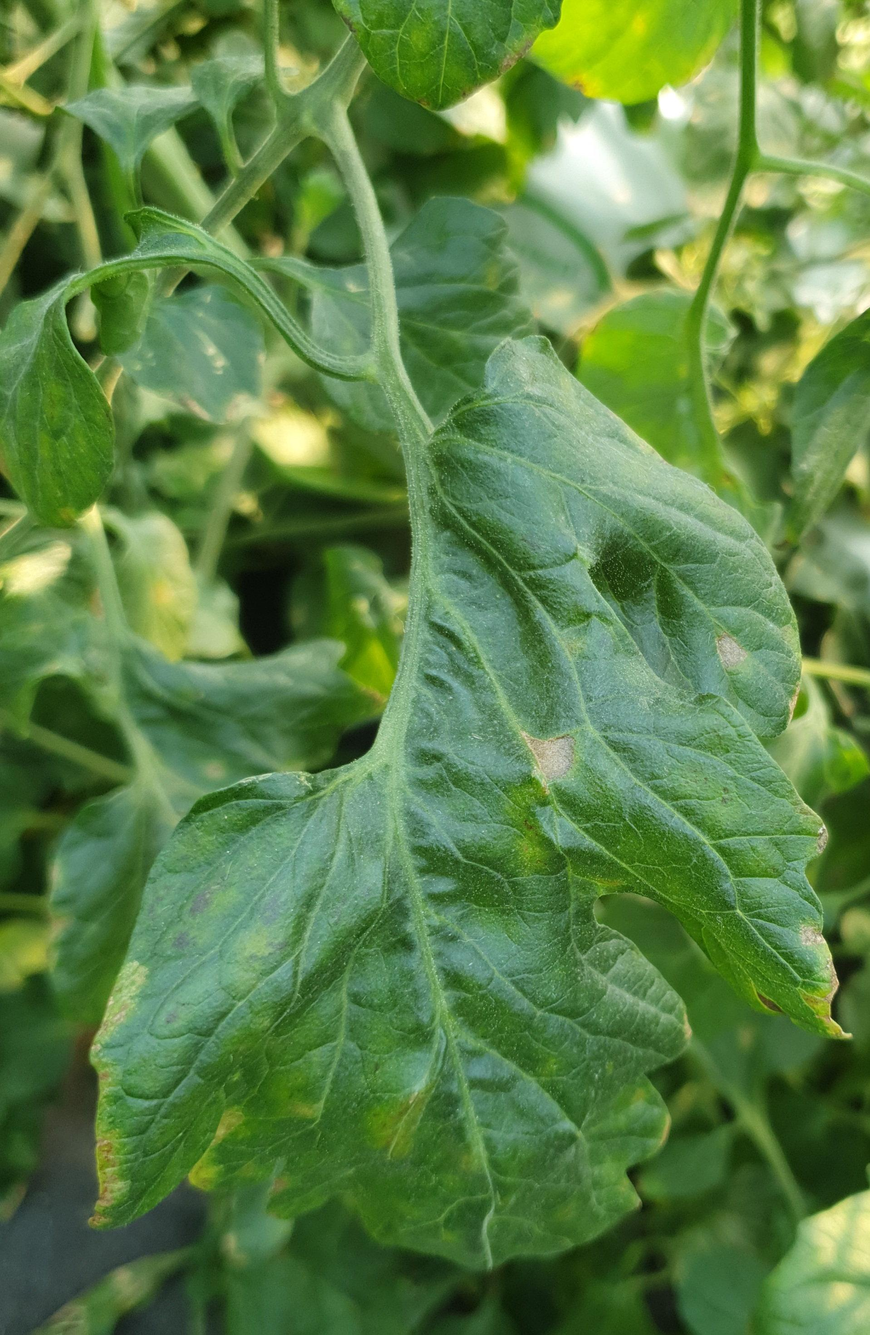Leaf Mold: (85, 324, 856, 1273)
